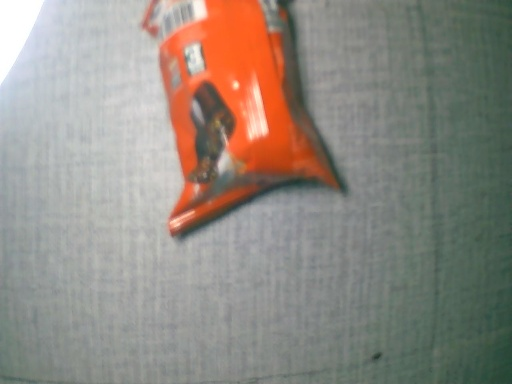plastic: (141, 1, 345, 233)
